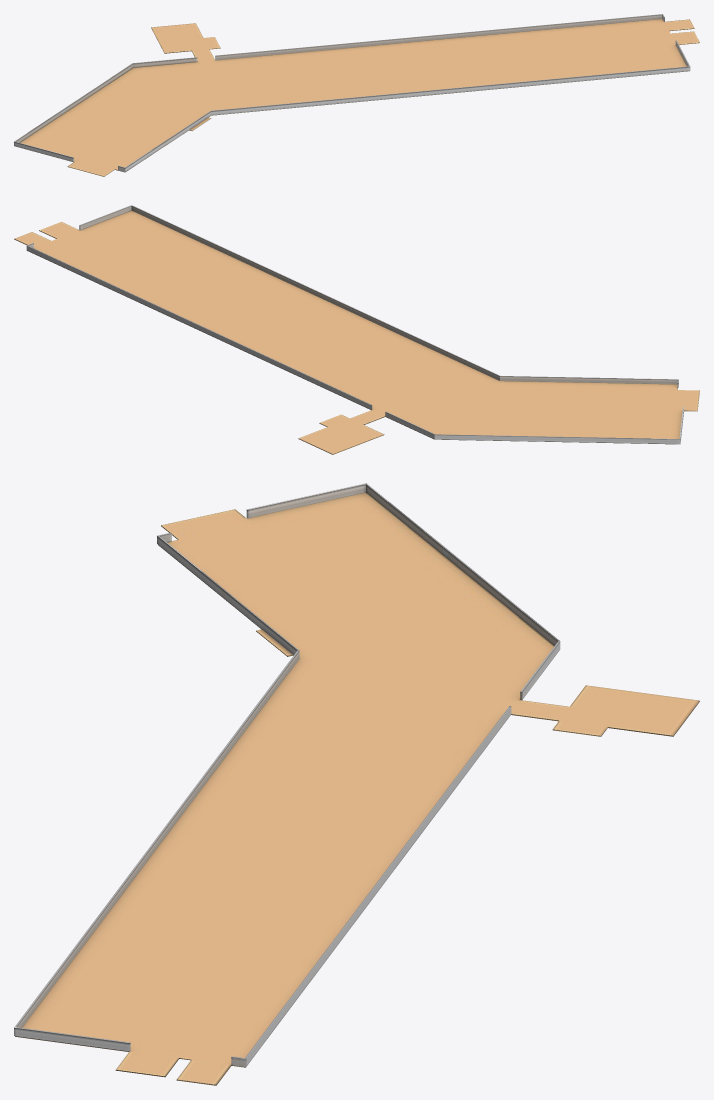
Rendered from AS6_ROOF.dae.
The picture shows the model from 3 angles, top to bottom: view 1: azimuth 30°, elevation 25°; view 2: azimuth 150°, elevation 25°; view 3: azimuth 270°, elevation 25°; orthographic projection. The views are drawn at different scales.
Visible parts, largest first — view 1: Cap_2 (×4), AS6_ROOF_Low_Balcony.1, AS6_ROOF_Low_Balcony, AS6_ROOF_Low_Balcony.2, AS6_ROOF_Floor; view 2: Cap_2 (×3), AS6_ROOF_Low_Balcony.1, AS6_ROOF_Low_Balcony, AS6_ROOF_Low_Balcony.2, AS6_ROOF_Floor; view 3: Cap_2 (×3), AS6_ROOF_Low_Balcony.1, AS6_ROOF_Low_Balcony.2, AS6_ROOF_Low_Balcony.
Boxes of the visible parts, bbox=[...] form: Cap_2 (×4): bbox=[14, 14, 699, 176]; AS6_ROOF_Low_Balcony.1: bbox=[118, 41, 690, 172]; AS6_ROOF_Low_Balcony: bbox=[215, 14, 664, 60]; AS6_ROOF_Low_Balcony.2: bbox=[14, 57, 197, 161]; AS6_ROOF_Floor: bbox=[16, 28, 699, 176]; Cap_2 (×3): bbox=[14, 205, 699, 454]; AS6_ROOF_Low_Balcony.1: bbox=[79, 206, 678, 387]; AS6_ROOF_Low_Balcony: bbox=[26, 243, 372, 409]; AS6_ROOF_Low_Balcony.2: bbox=[385, 409, 683, 444]; AS6_ROOF_Floor: bbox=[14, 230, 698, 454]; Cap_2 (×3): bbox=[14, 492, 699, 1084]; AS6_ROOF_Low_Balcony.1: bbox=[14, 533, 299, 1051]; AS6_ROOF_Low_Balcony.2: bbox=[246, 484, 560, 699]; AS6_ROOF_Low_Balcony: bbox=[231, 706, 511, 1066].
Size of the model in its own units: 138 by 0.99 by 67.63.
1 material, 1 textured.
